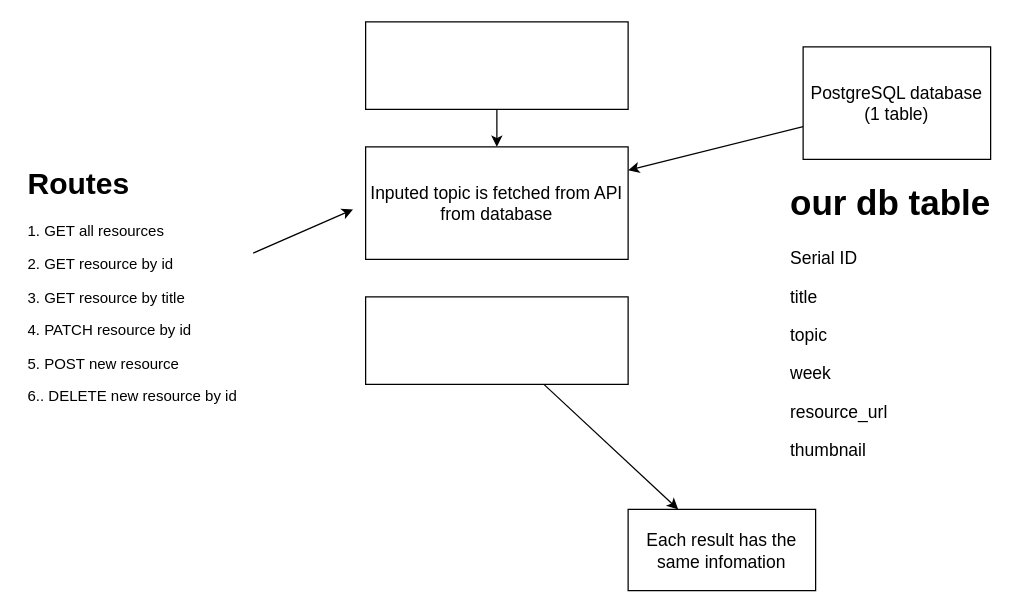
Some shapes in this 1030 by 613 pixel diagram are drawn without their labels. The shapes that lost their labels are listed below. From the top down, each one's centre as x and y in pixels, then its label:
point (496, 65): user inputs topic in searchbar
point (496, 340): Topic is displayed to user
